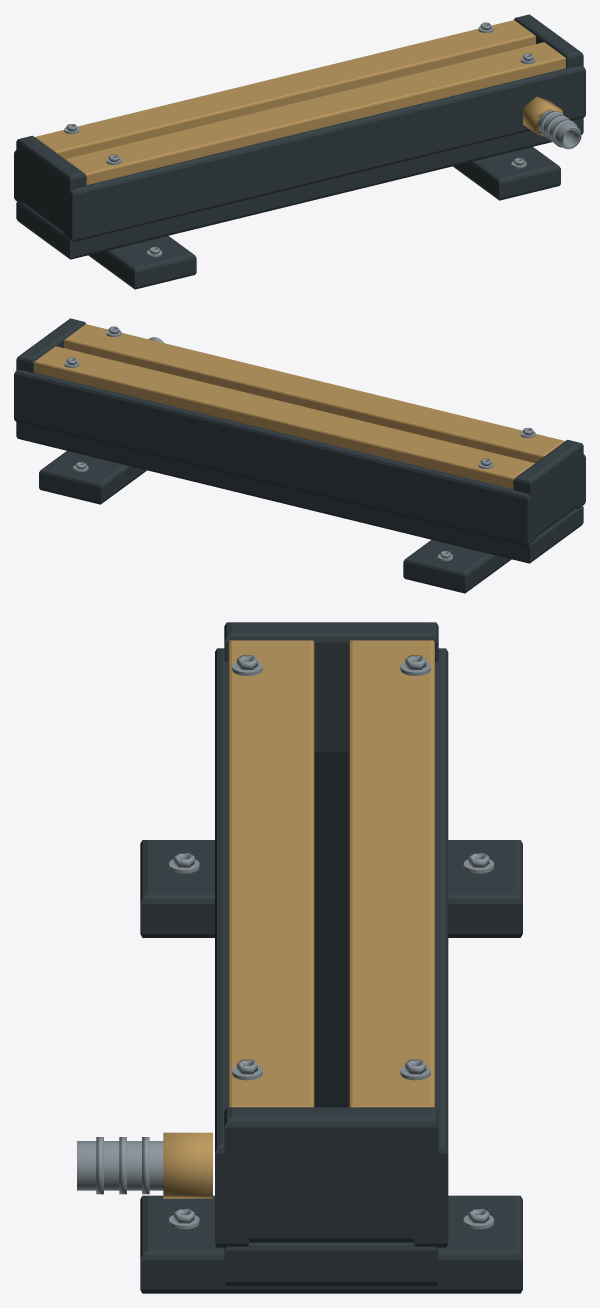
The model's file is seam-rail.glb.
The picture shows the model from 3 angles, top to bottom: view 1: azimuth 30°, elevation 25°; view 2: azimuth 150°, elevation 25°; view 3: azimuth 270°, elevation 25°; orthographic projection. The views are drawn at different scales.
Visible parts, largest first — view 1: Replaceable bronze slot lip (×2), Plenum side wall (×2), Plenum base, Crosswise mounting foot (×2), End cheek (×2), Hose socket, Hex union; view 2: Replaceable bronze slot lip (×2), Plenum side wall, Plenum base, Crosswise mounting foot (×2), End cheek (×2); view 3: Replaceable bronze slot lip (×2), End cheek (×2), Crosswise mounting foot (×2), Plenum side wall (×2), Recessed slot floor, Plenum base, Hex union, Hose socket.
Part boxes in pixels (<box>): Replaceable bronze slot lip (×2): <box>35,20,565,184</box>; Plenum side wall (×2): <box>14,65,585,242</box>; Plenum base: <box>16,117,583,259</box>; Crosswise mounting foot (×2): <box>88,147,560,289</box>; End cheek (×2): <box>16,14,583,235</box>; Hose socket: <box>538,110,581,149</box>; Hex union: <box>523,96,562,136</box>; Replaceable bronze slot lip (×2): <box>34,324,564,488</box>; Plenum side wall: <box>14,369,536,546</box>; Plenum base: <box>16,421,583,563</box>; Crosswise mounting foot (×2): <box>39,451,511,593</box>; End cheek (×2): <box>16,318,583,536</box>; Replaceable bronze slot lip (×2): <box>228,640,434,1107</box>; End cheek (×2): <box>224,622,438,1242</box>; Crosswise mounting foot (×2): <box>140,840,522,1293</box>; Plenum side wall (×2): <box>215,648,448,1247</box>; Recessed slot floor: <box>314,752,348,1107</box>; Plenum base: <box>224,1242,438,1285</box>; Hex union: <box>163,1132,212,1198</box>; Hose socket: <box>77,1141,163,1190</box>.
Size of the model in its own units: 0.62 by 0.131 by 0.233.
